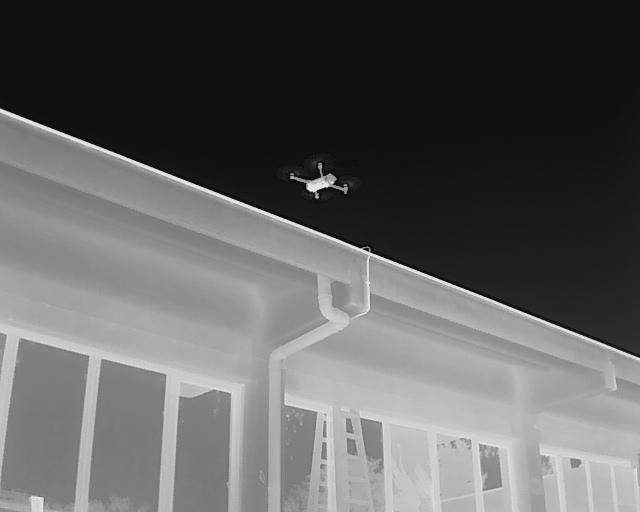drone: (284, 158, 356, 211)
